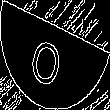O_N: (35, 23, 75, 87)
